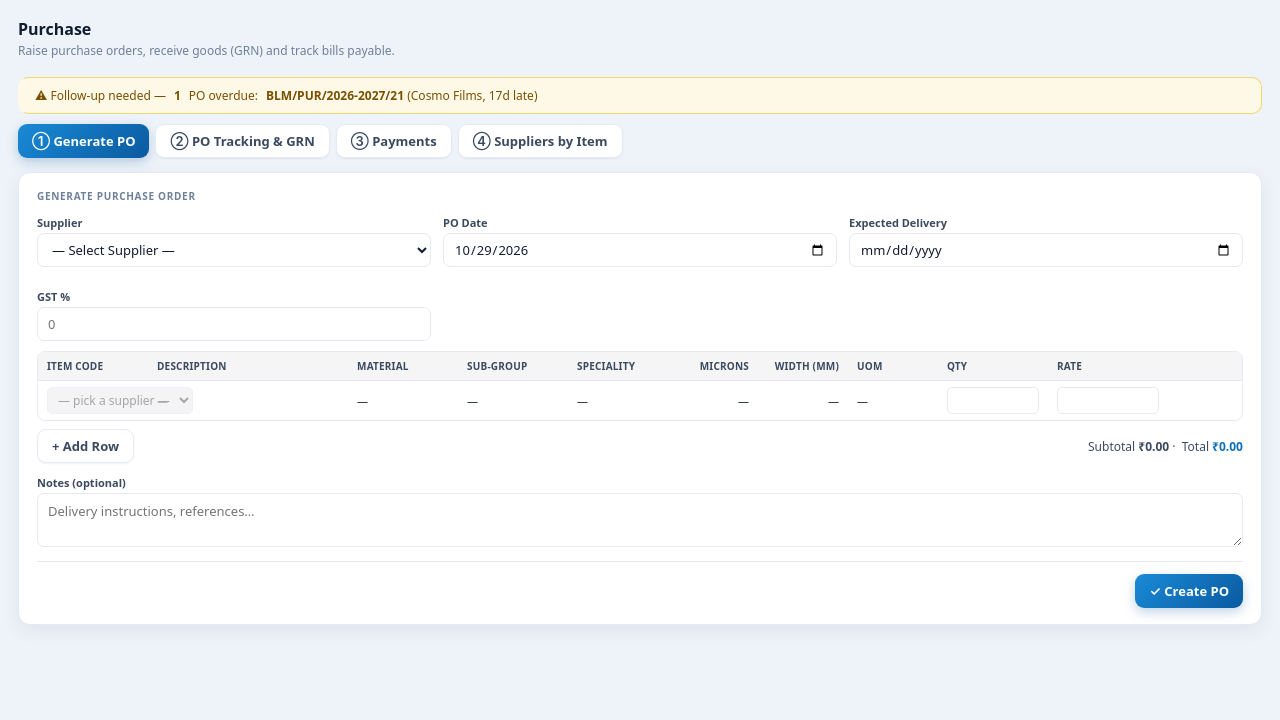
Issues 17.10 §7 — GRN Entry: radio selection, actions above the table › drops the Actions column for a radio column, and keeps the toolbar buttons off until a PO is picked
Step 1. Click the button "② PO Tracking & GRN" → (243, 141), box x1=156 y1=124 x2=330 y2=158
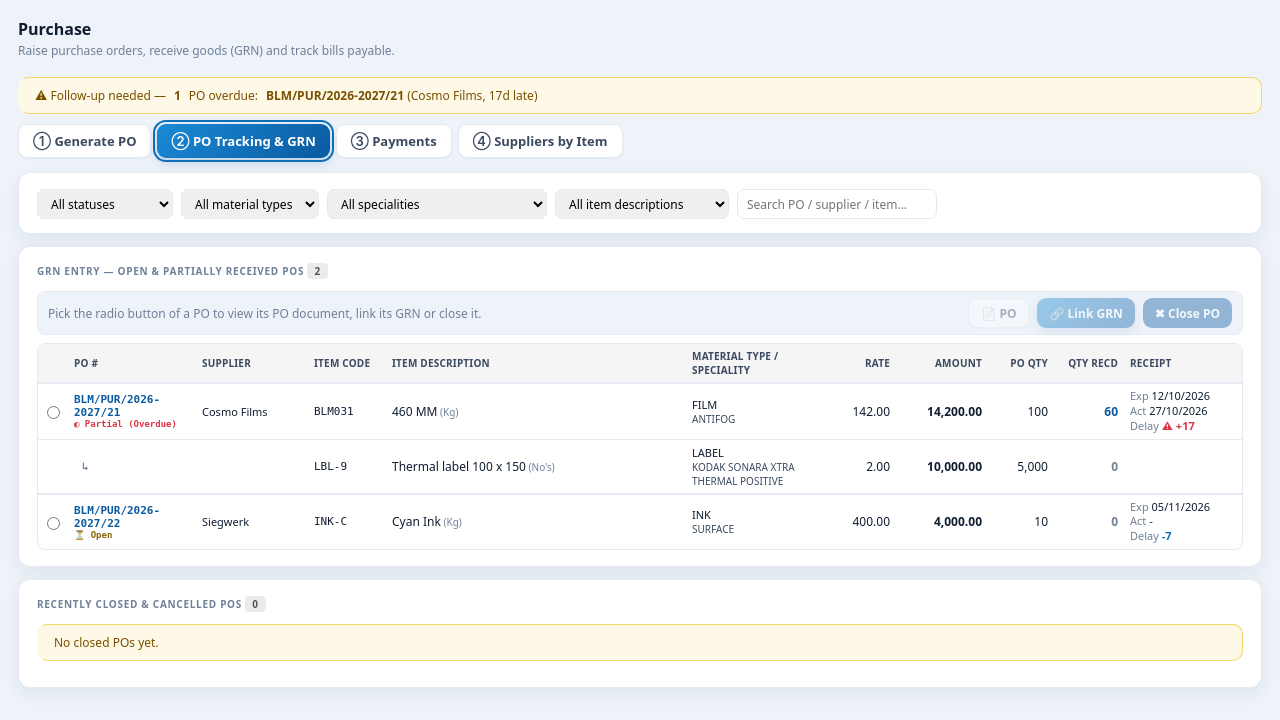
Expected: the button "📄 PO" is disabled, x1=968 y1=298 x2=1030 y2=328
Expected: the button "🔗 Link GRN" is disabled, x1=1038 y1=298 x2=1135 y2=328
Expected: the button "✖ Close PO" is disabled, x1=1143 y1=298 x2=1232 y2=328
